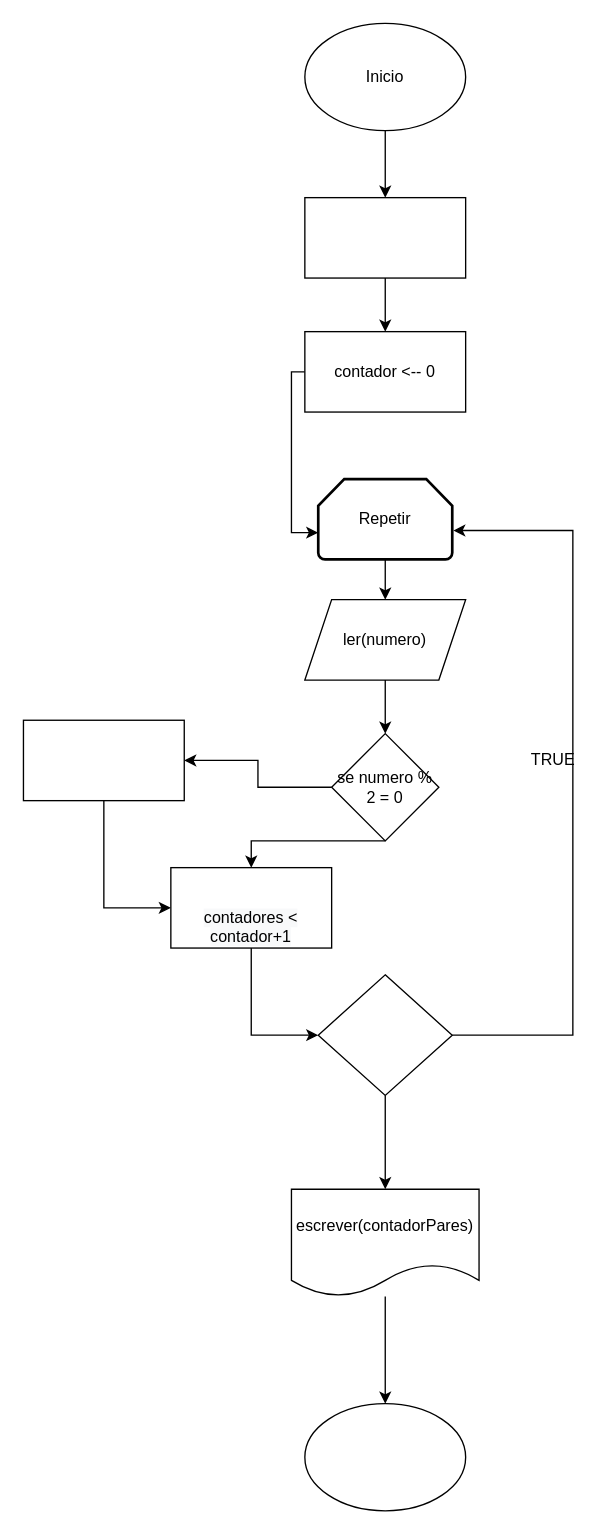
This 610x1534 diagram has some shape labels left out. The shapes that lost their labels are listed below. From the top down, each one's centre as x and y in pixels, then its label:
At (385,237): "contadoresPares <-- 0".
At (103,760): "contadoresPares < contadorPares +1".
At (384,1034): "contador < 10".
At (385,1456): "Fim".
